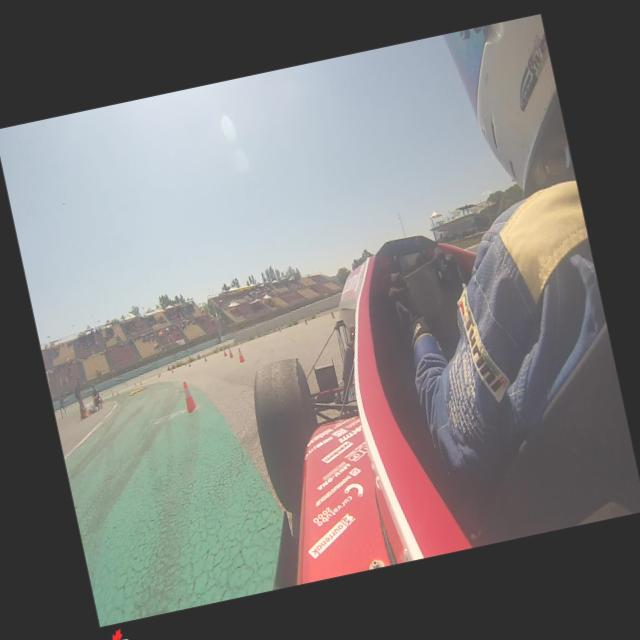orange_cone: (178, 379, 199, 413), (237, 347, 244, 362), (227, 347, 233, 358), (222, 348, 226, 356), (204, 356, 206, 361), (188, 362, 190, 366)
yellow_cone: (330, 311, 334, 318), (304, 318, 308, 324), (278, 326, 282, 332)
